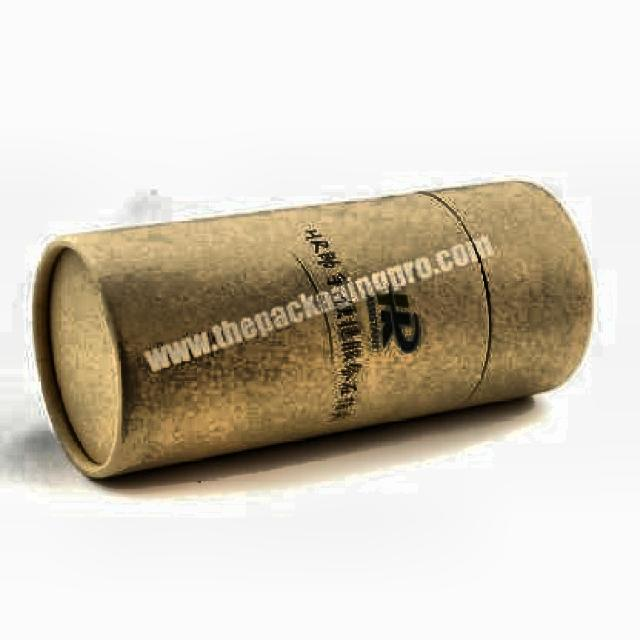Cardbox: (12, 182, 620, 471)
